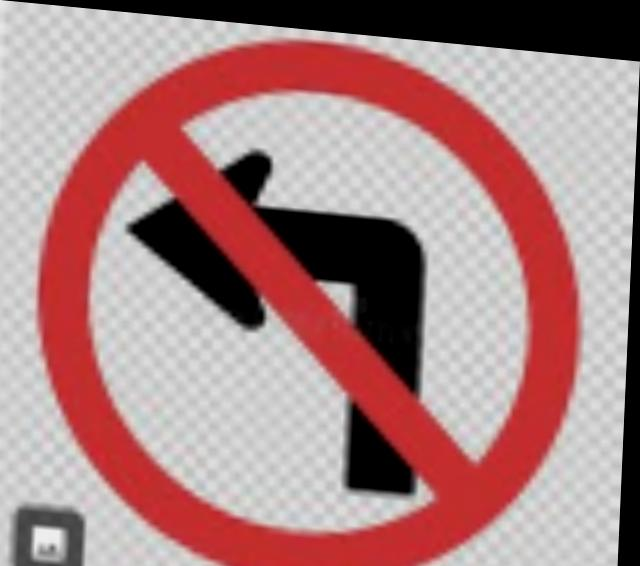not_turn_left: (10, 17, 598, 566)
